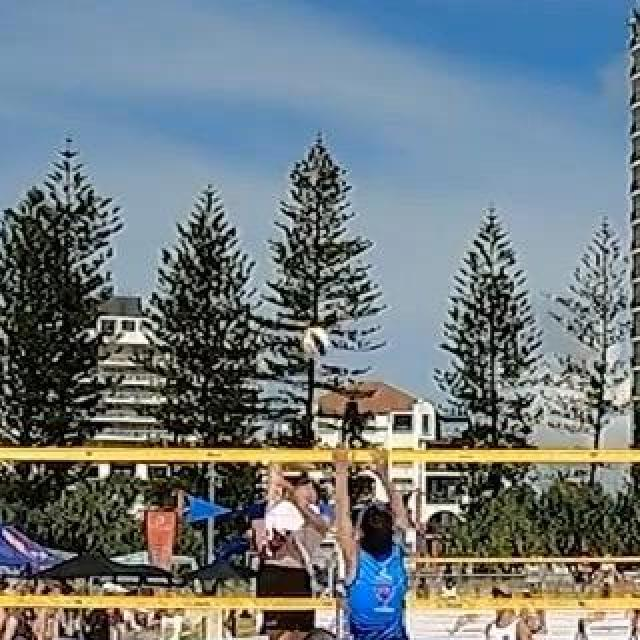volleyball: (300, 327, 330, 357)
